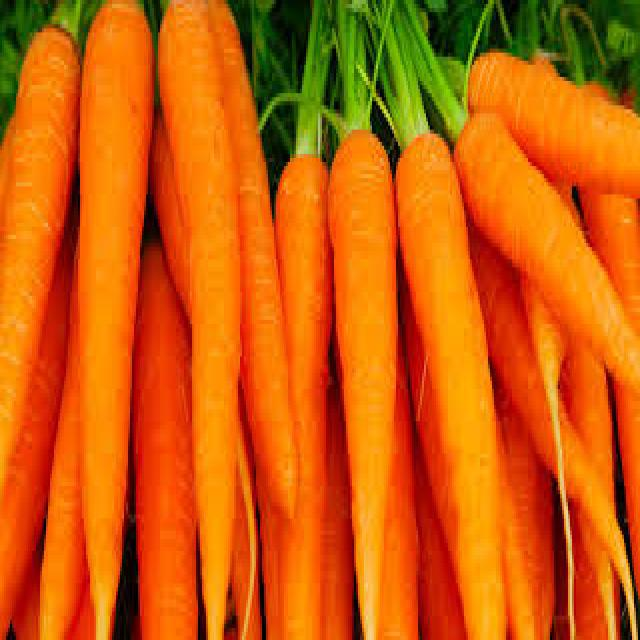Carrot: (332, 124, 398, 630)
